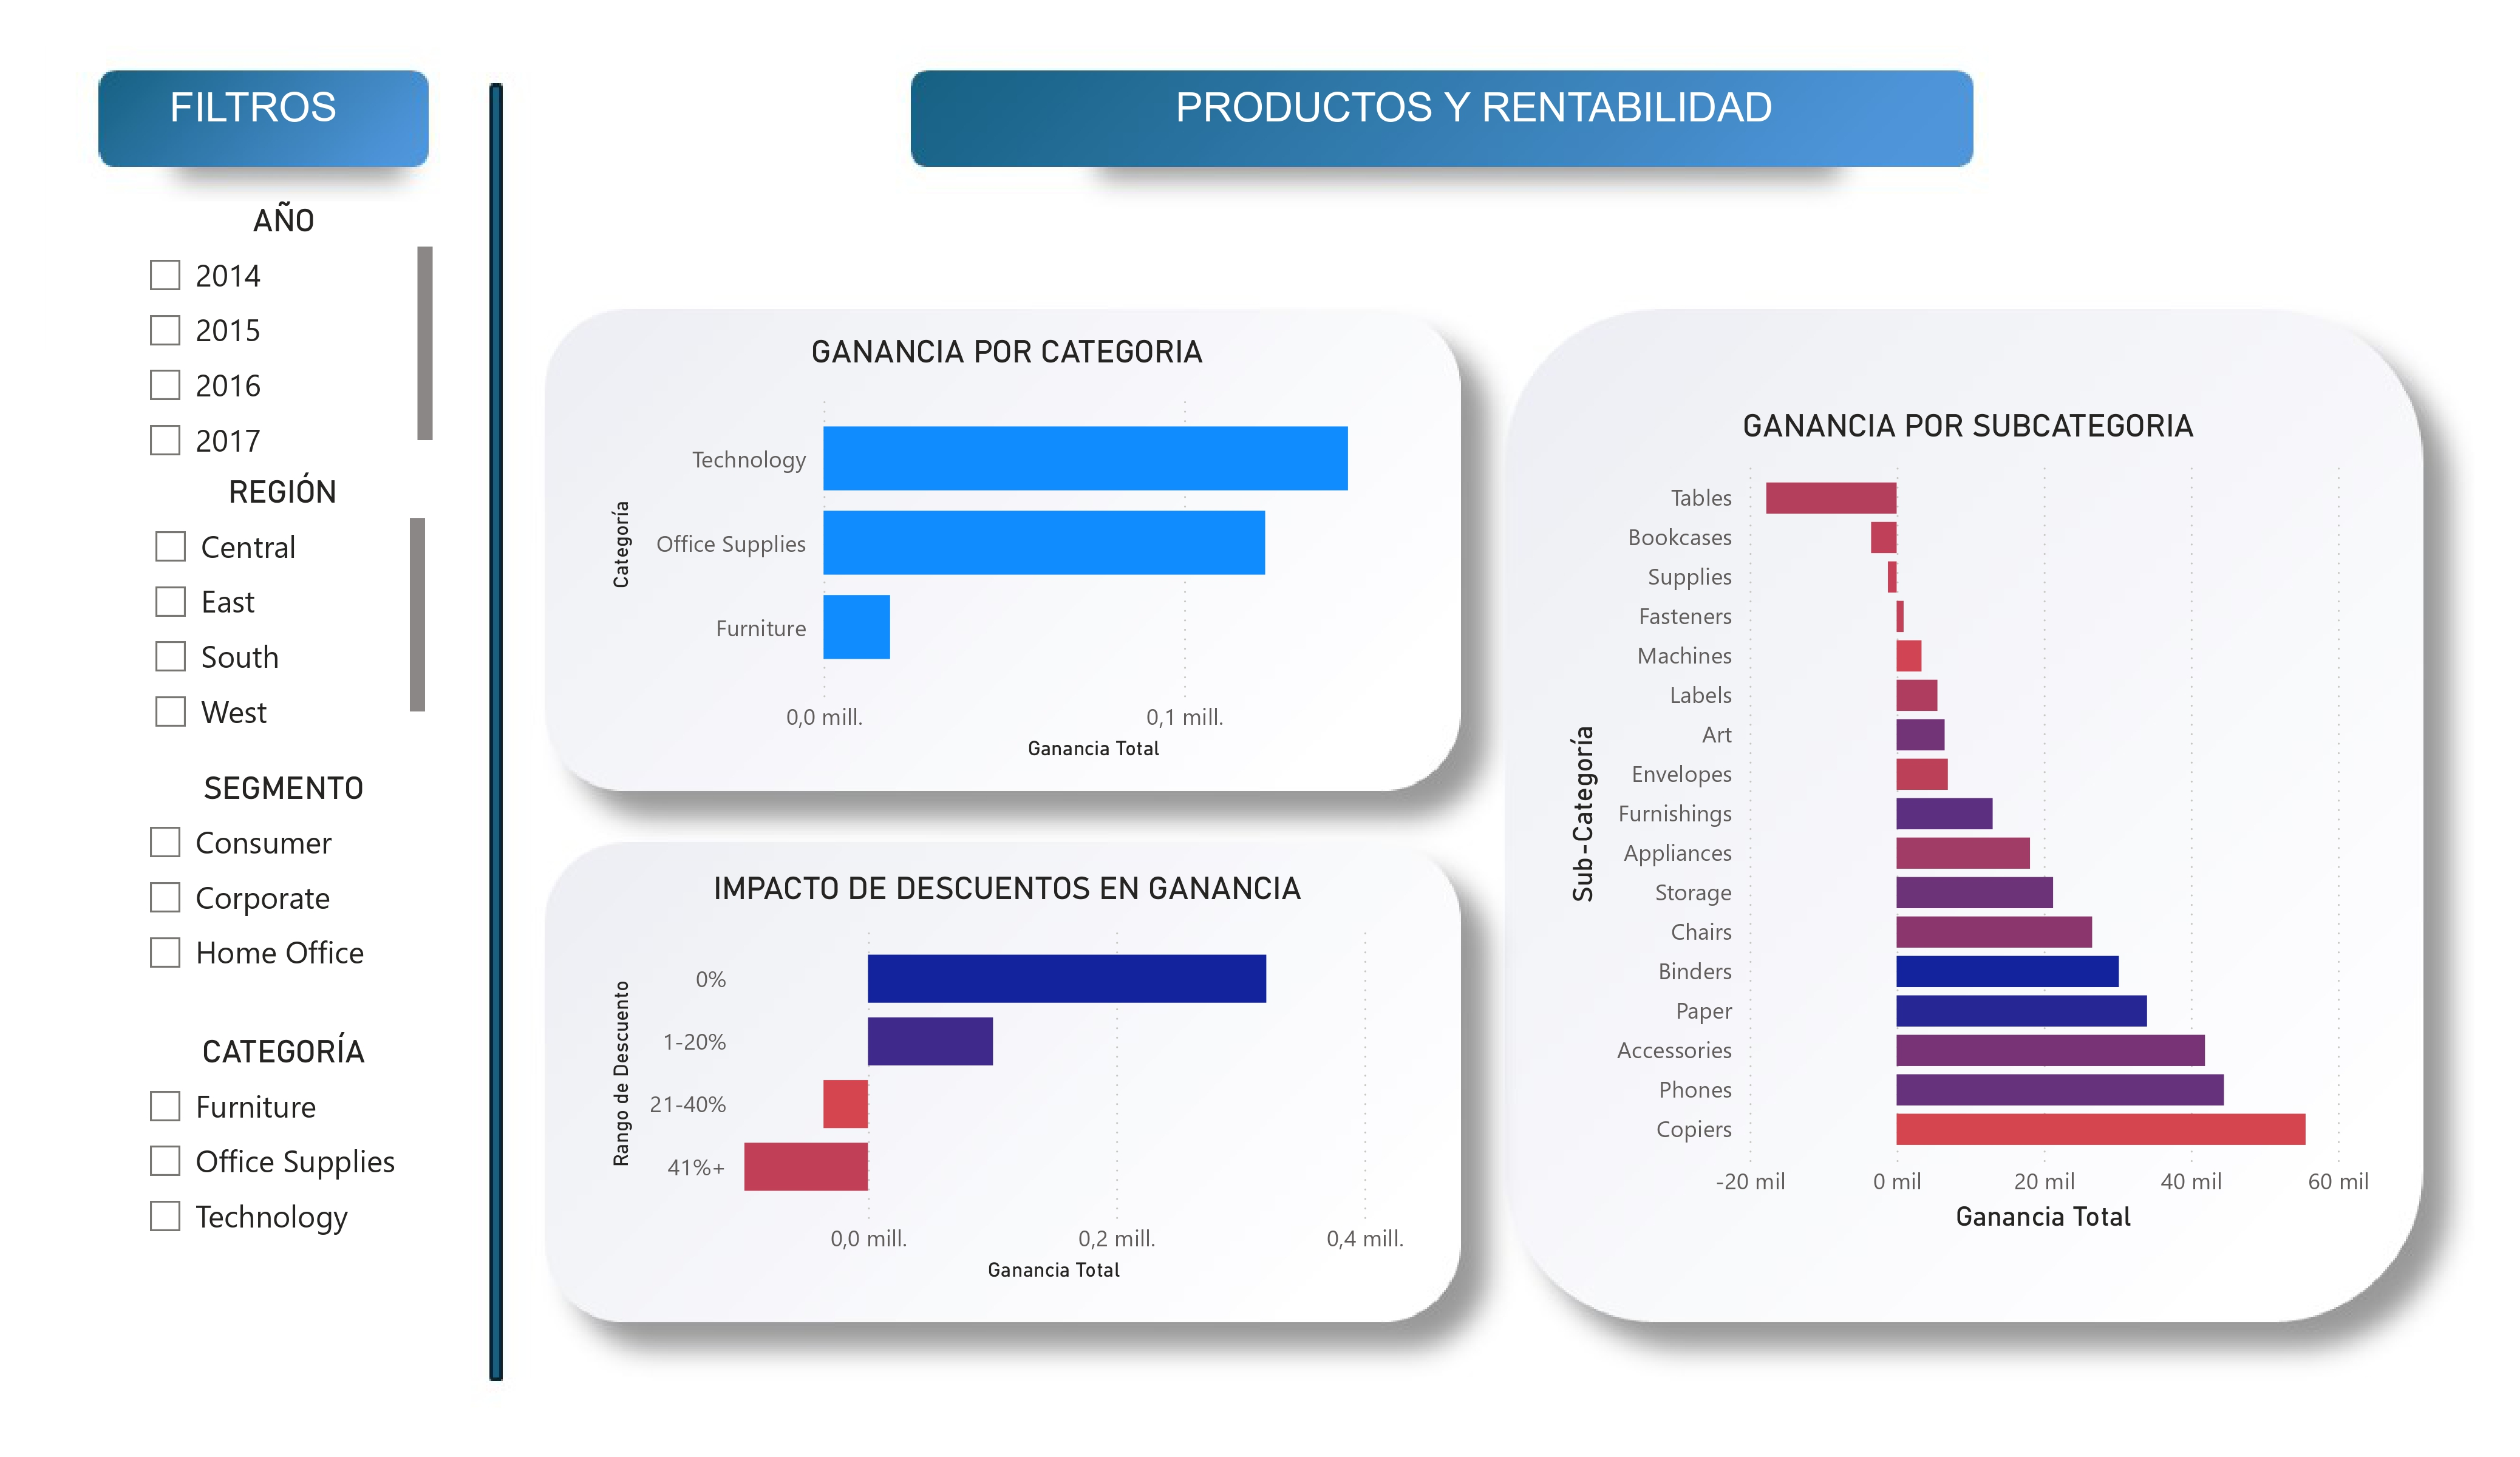

The dashboard page shown, as its layout file describes it:
{"tool":"powerbi","page":{"name":"PRODUCTOS","canvas":[1280,720],"ordinal":1},"visuals":[{"type":"clusteredBarChart","title":"GANANCIA POR CATEGORIA","fields":{"Category":["superstore.Category"],"Y":["Medidas.Total Profit"]},"box":[292.8,150.8,428,230.5],"z":0},{"type":"clusteredBarChart","title":"GANANCIA POR SUBCATEGORIA","fields":{"Category":["superstore.Sub-Category"],"Y":["Medidas.Total Profit"]},"box":[796.6,189.7,433.8,440.6],"z":1000},{"type":"clusteredBarChart","title":"IMPACTO DE DESCUENTOS EN GANANCIA","fields":{"Category":["superstore.Discount Range"],"Y":["Medidas.Total Profit"]},"box":[292.8,433.8,428,221.8],"z":2000},{"type":"slicer","title":"REGIÓN","fields":{"Values":["superstore.Region"]},"box":[44.7,224.7,160.5,143],"z":3000},{"type":"slicer","title":"AÑO","fields":{"Values":["superstore.Order Date.Variación.Date Hierarchy.Year"]},"box":[41.8,81.7,167.3,143],"z":4000},{"type":"slicer","title":"SEGMENTO","fields":{"Values":["superstore.Segment"]},"box":[41.8,381.3,167.3,119.6],"z":5000},{"type":"textbox","box":[516.2,16.4,473.9,43.3],"z":6000},{"type":"textbox","box":[41.4,16.4,136.8,50.1],"z":7000},{"type":"slicer","title":"CATEGORÍA","fields":{"Values":["superstore.Category"]},"box":[41.8,520.4,167.3,119.6],"z":8000}]}

Visuals, with their boxes on the page's 1280x720 design canvas (x1, y1, x2, y2). These are canvas units, not pixel positions in the 2520x1457 screenshot, which may show the page scaled, cropped or inside an application window:
"GANANCIA POR CATEGORIA" clusteredBarChart: bbox(293, 151, 721, 381)
"GANANCIA POR SUBCATEGORIA" clusteredBarChart: bbox(797, 190, 1230, 630)
"IMPACTO DE DESCUENTOS EN GANANCIA" clusteredBarChart: bbox(293, 434, 721, 656)
"REGIÓN" slicer: bbox(45, 225, 205, 368)
"AÑO" slicer: bbox(42, 82, 209, 225)
"SEGMENTO" slicer: bbox(42, 381, 209, 501)
textbox: bbox(516, 16, 990, 60)
textbox: bbox(41, 16, 178, 66)
"CATEGORÍA" slicer: bbox(42, 520, 209, 640)
